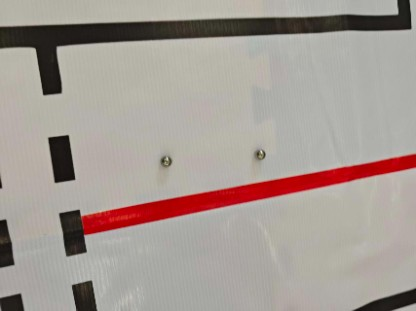ironball: (160, 156, 170, 167), (254, 149, 264, 159)
